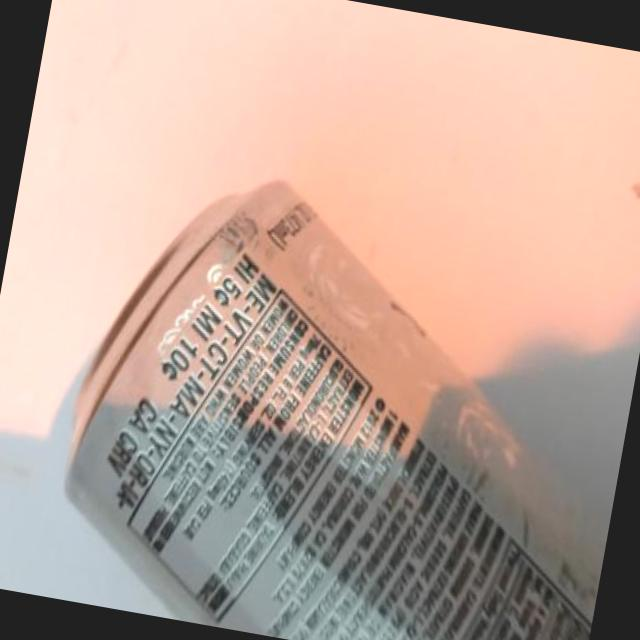nhom: (59, 181, 608, 640)
